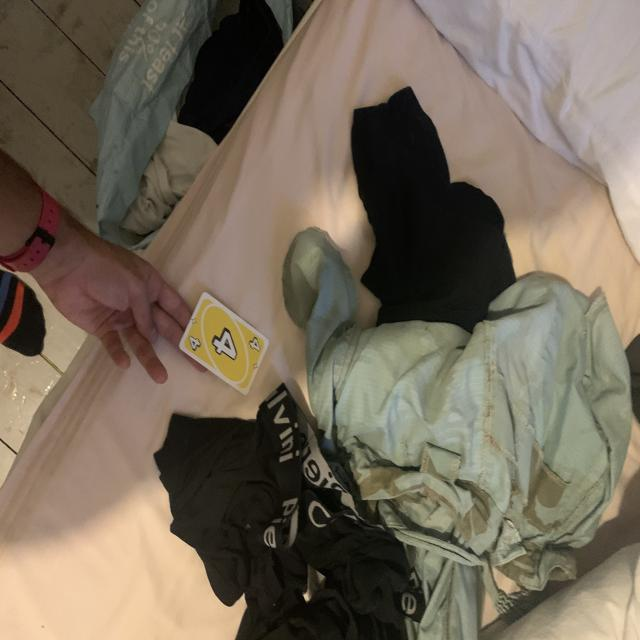lyellow-4: (185, 331, 207, 357)
